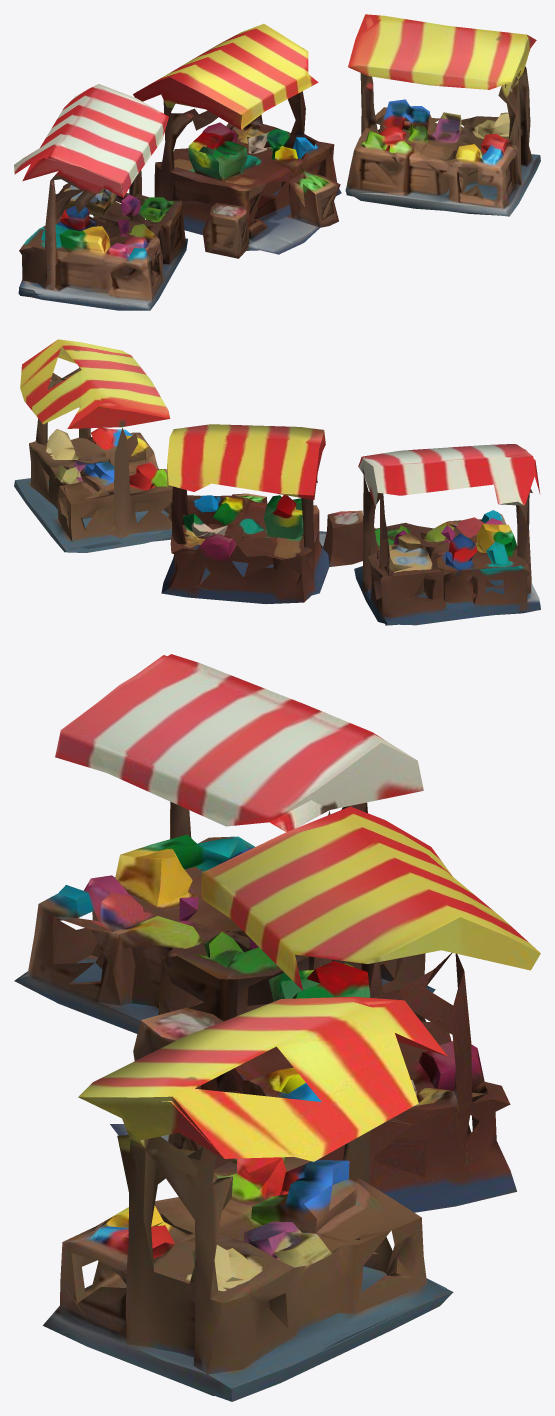
The model's file is trialMarketTex.glb.
3 renders of one model, top to bottom at view 1: azimuth 30°, elevation 25°; view 2: azimuth 150°, elevation 25°; view 3: azimuth 270°, elevation 25°, orthographic. The views are drawn at different scales.
Visible parts, largest first — view 1: level; view 2: level; view 3: level.
Boxes of the visible parts, x1=… form: level: x1=14, y1=14, x2=540, y2=310; level: x1=14, y1=339, x2=540, y2=625; level: x1=14, y1=654, x2=540, y2=1401.
Bounding box in the file's own units: 0.8805 × 0.2444 × 0.3972.
1 material, 1 textured.
